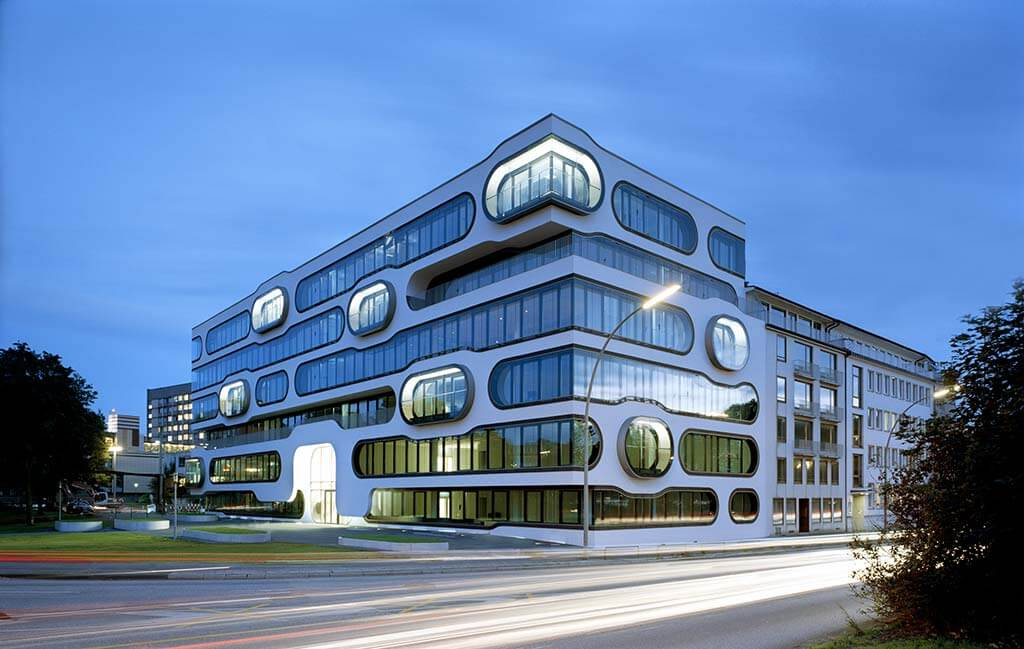Building House: (158, 148, 949, 550)
